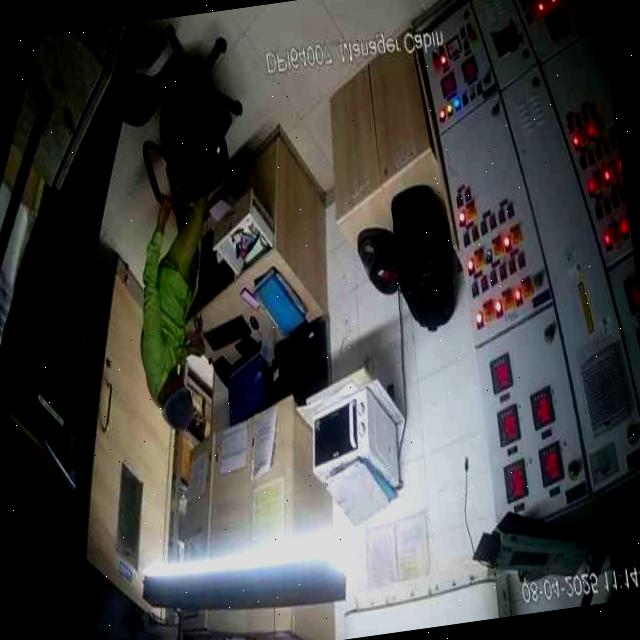no_helmet: (157, 376, 194, 430)
